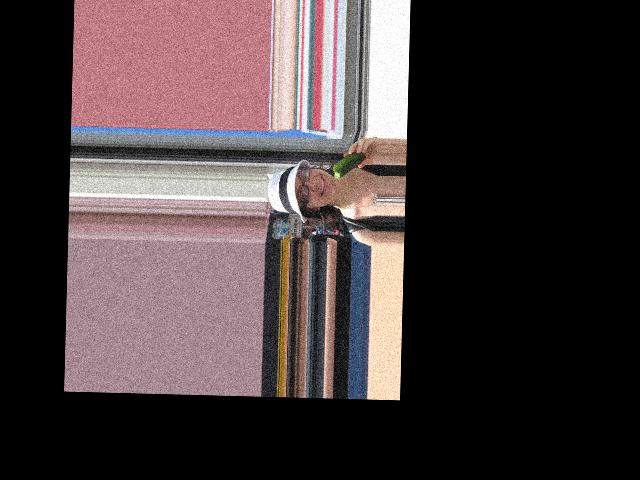cucumber: (333, 150, 365, 179)
